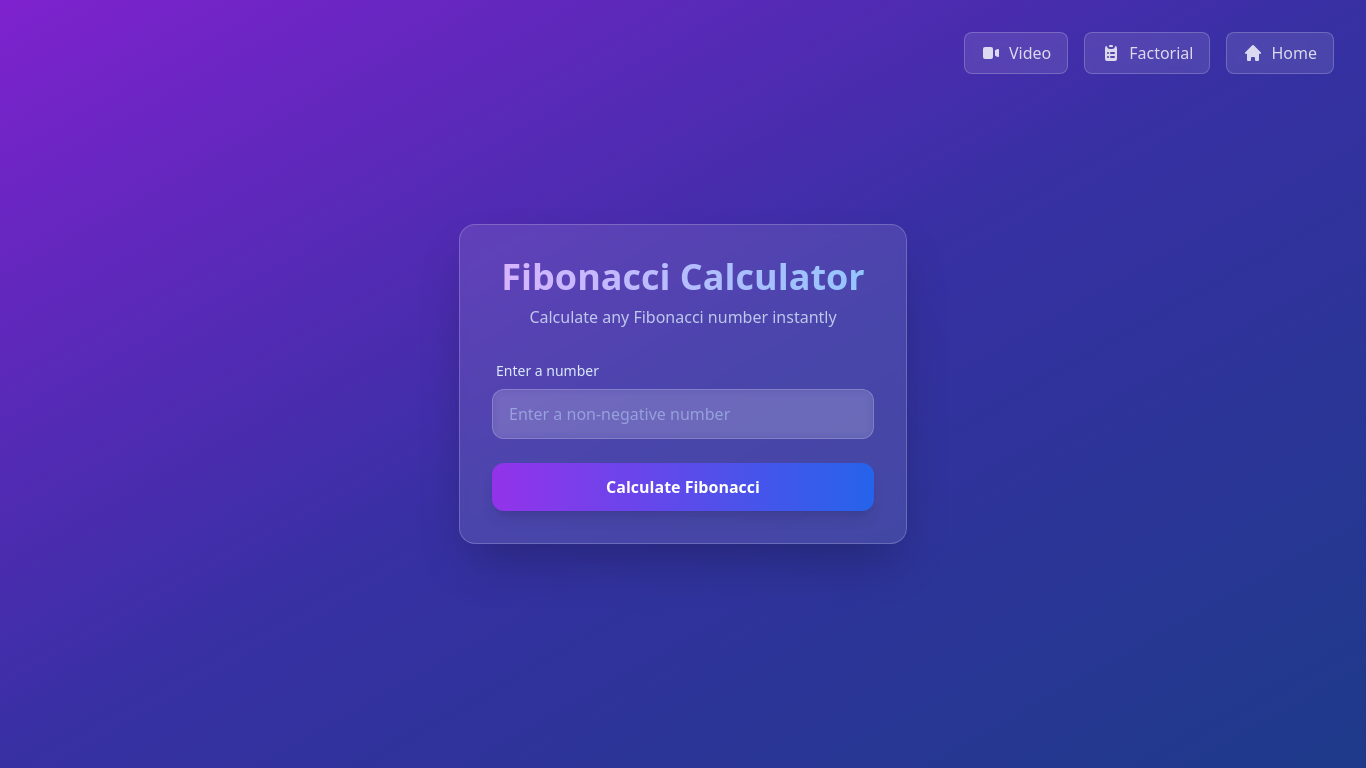
Calculator Component › handles API error correctly
Type "5" into the number field with placeholder "Enter a non-negative number" at (683, 414), box [492,389,874,439]
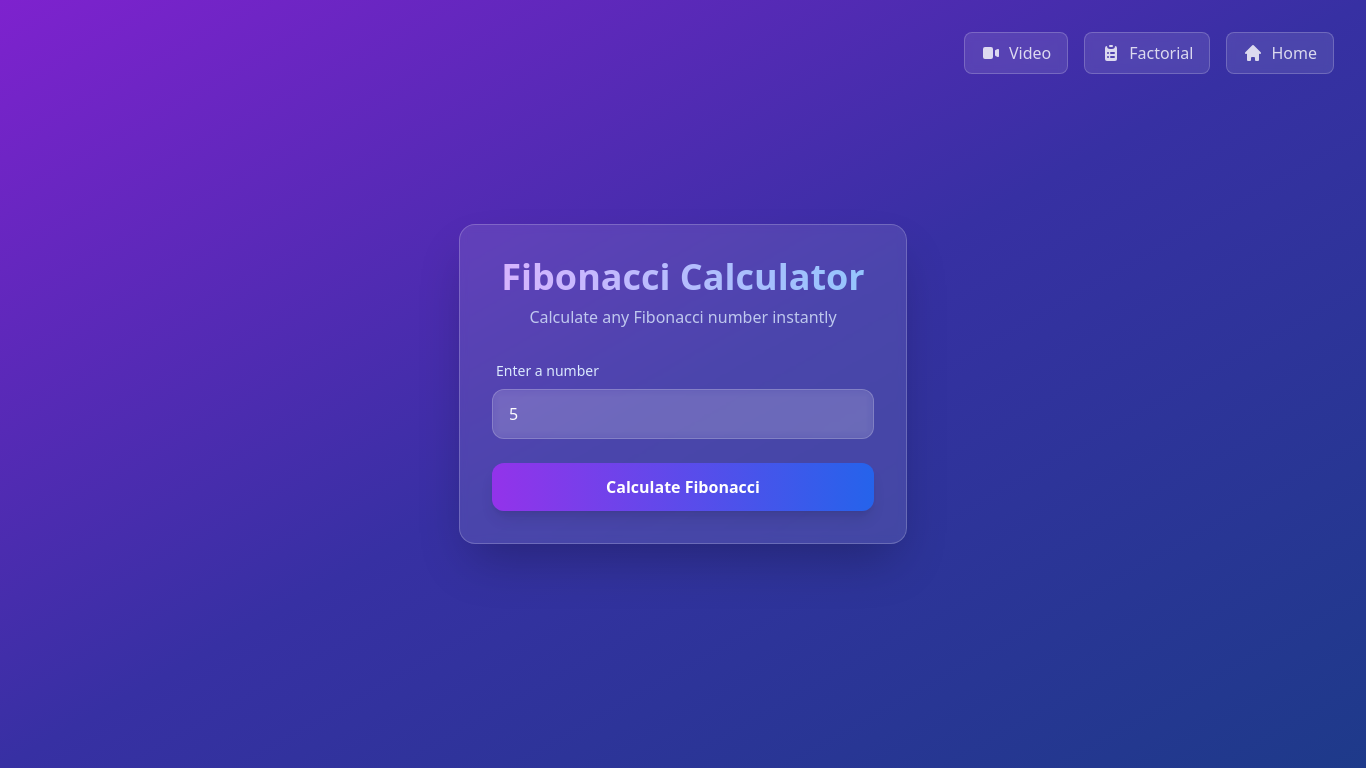
Click the button "Calculate Fibonacci" at (683, 487), box [492,463,874,511]
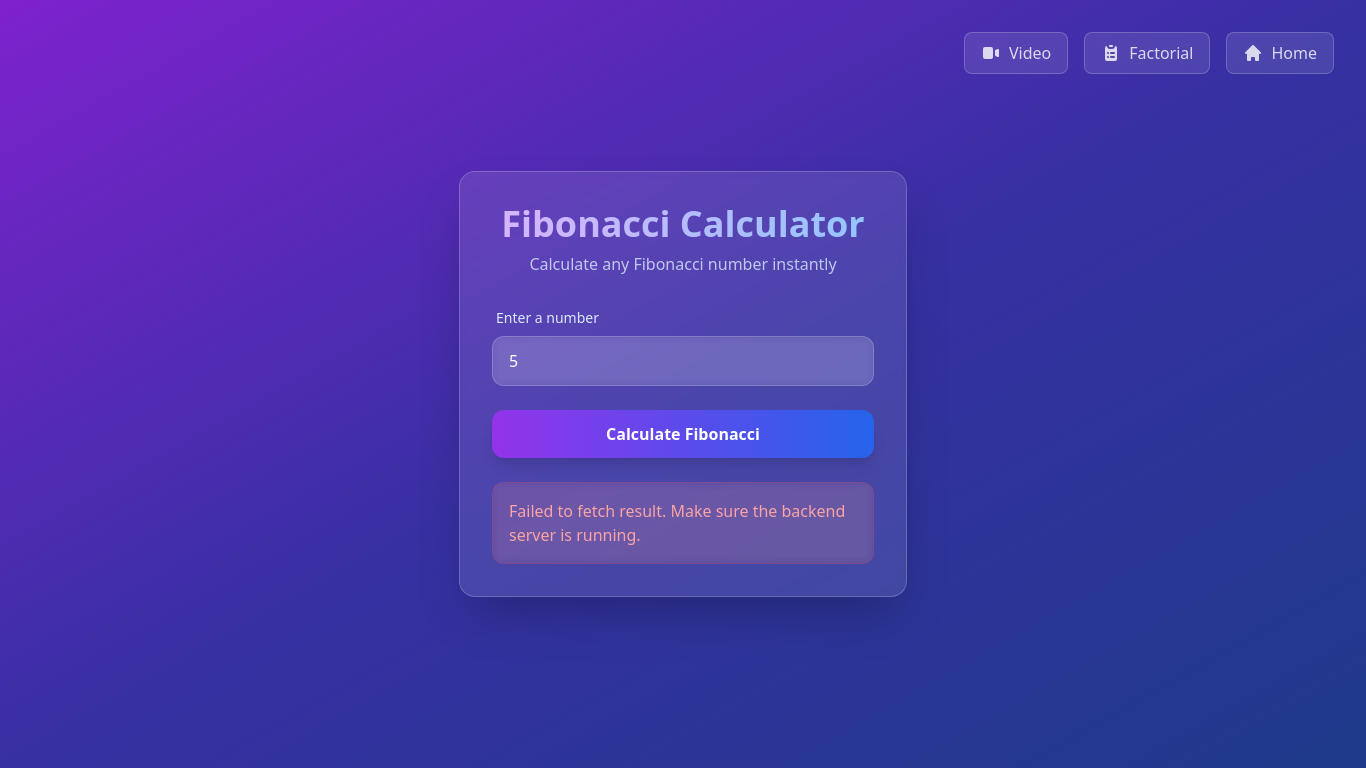
Now the text "Failed to fetch result. Make sure the backend server is running." is shown, box [509,499,857,547]
